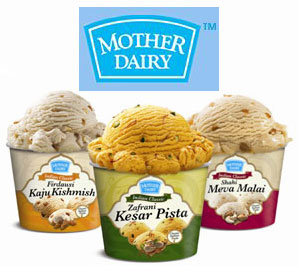Mother_Dairy: (81, 14, 198, 85)
